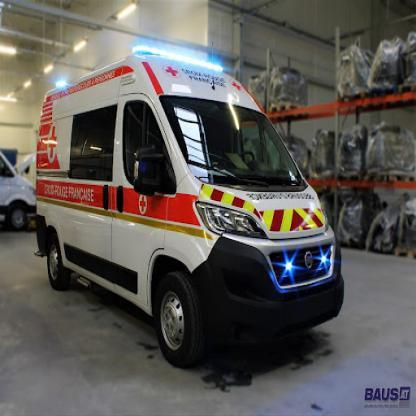ambulance_on: (34, 43, 345, 370)
